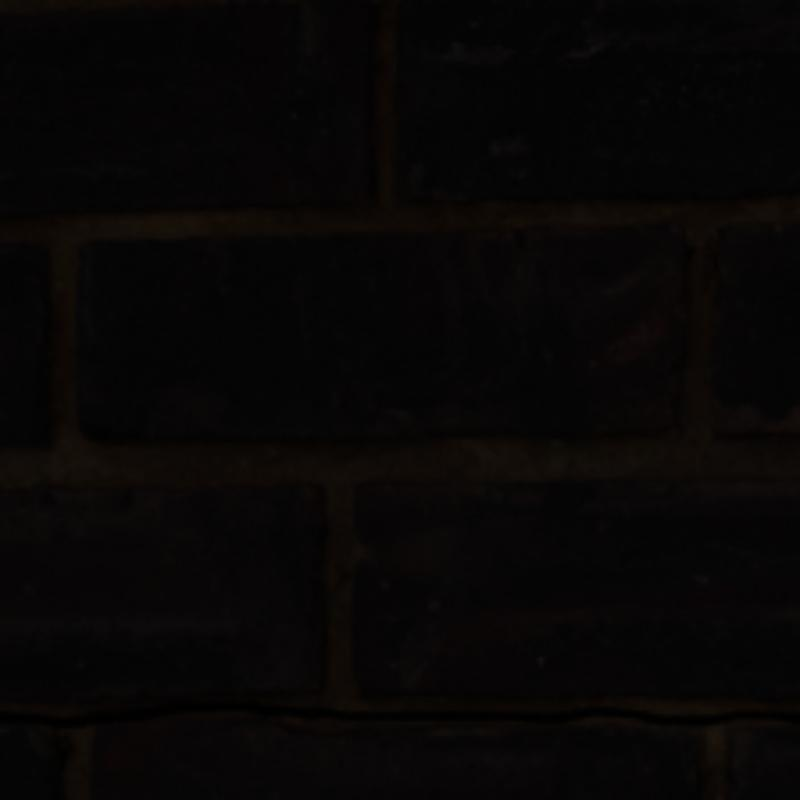crack: (0, 704, 796, 725)
